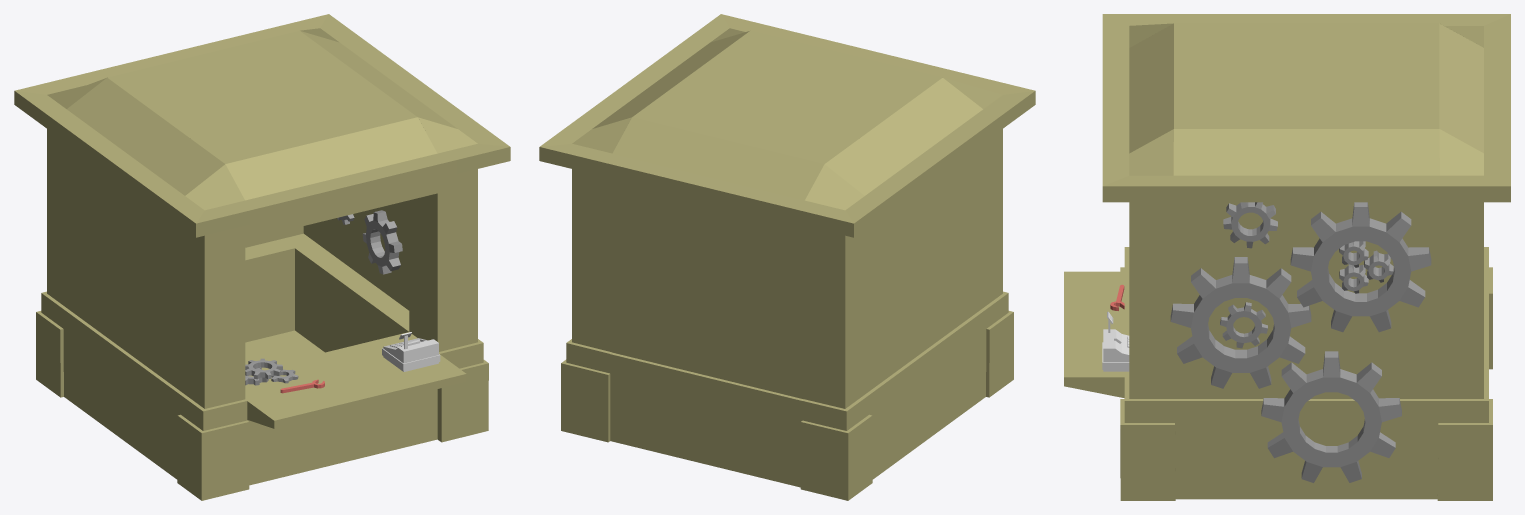
File: Tienda_1.glb
3 views of the same model, side by side, from view 1: azimuth 30°, elevation 25°; view 2: azimuth 150°, elevation 25°; view 3: azimuth 270°, elevation 25° (orthographic). The views are drawn at different scales.
Visible parts, largest first — view 1: Cube.006, Cylinder, Cube.007; view 2: Cube.006; view 3: Cube.006, Cylinder, Cube.007.
Boxes of the visible parts, box(x1,y1,x2,y2) form: Cube.006: box(14, 14, 510, 500); Cylinder: box(245, 210, 402, 385); Cube.007: box(382, 332, 440, 371); Cube.006: box(539, 14, 1035, 500); Cube.006: box(1064, 14, 1510, 500); Cylinder: box(1170, 202, 1431, 482); Cube.007: box(1102, 311, 1129, 371).
Bounding box in the file's own units: 2.3 × 2.15 × 2.52.
